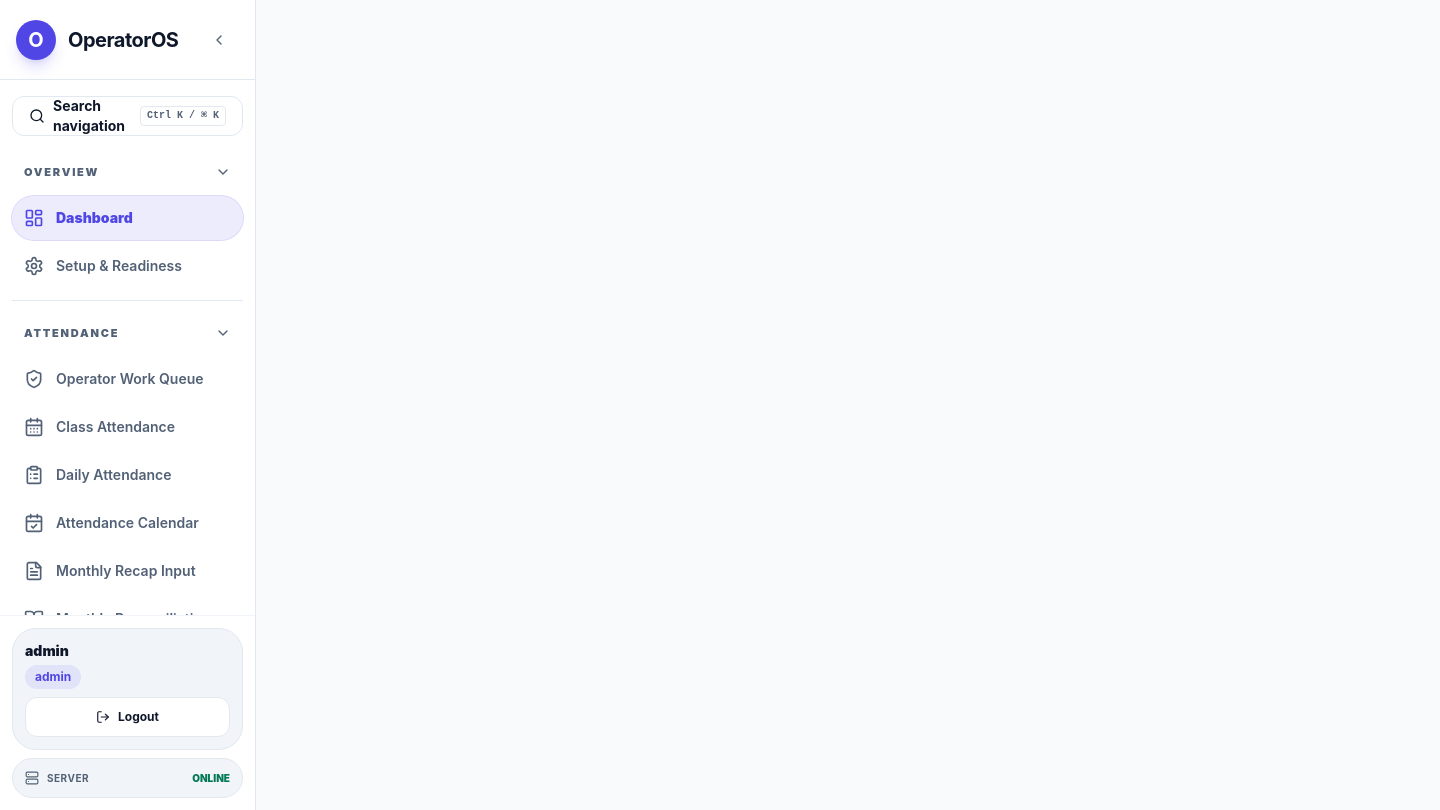
role-aware sidebar navigation › reports an unconfirmed logout after a rejected request without hiding the authenticated shell
Click the button with aria-label "Logout": {"x": 128, "y": 717} left=25, top=697, right=230, bottom=737
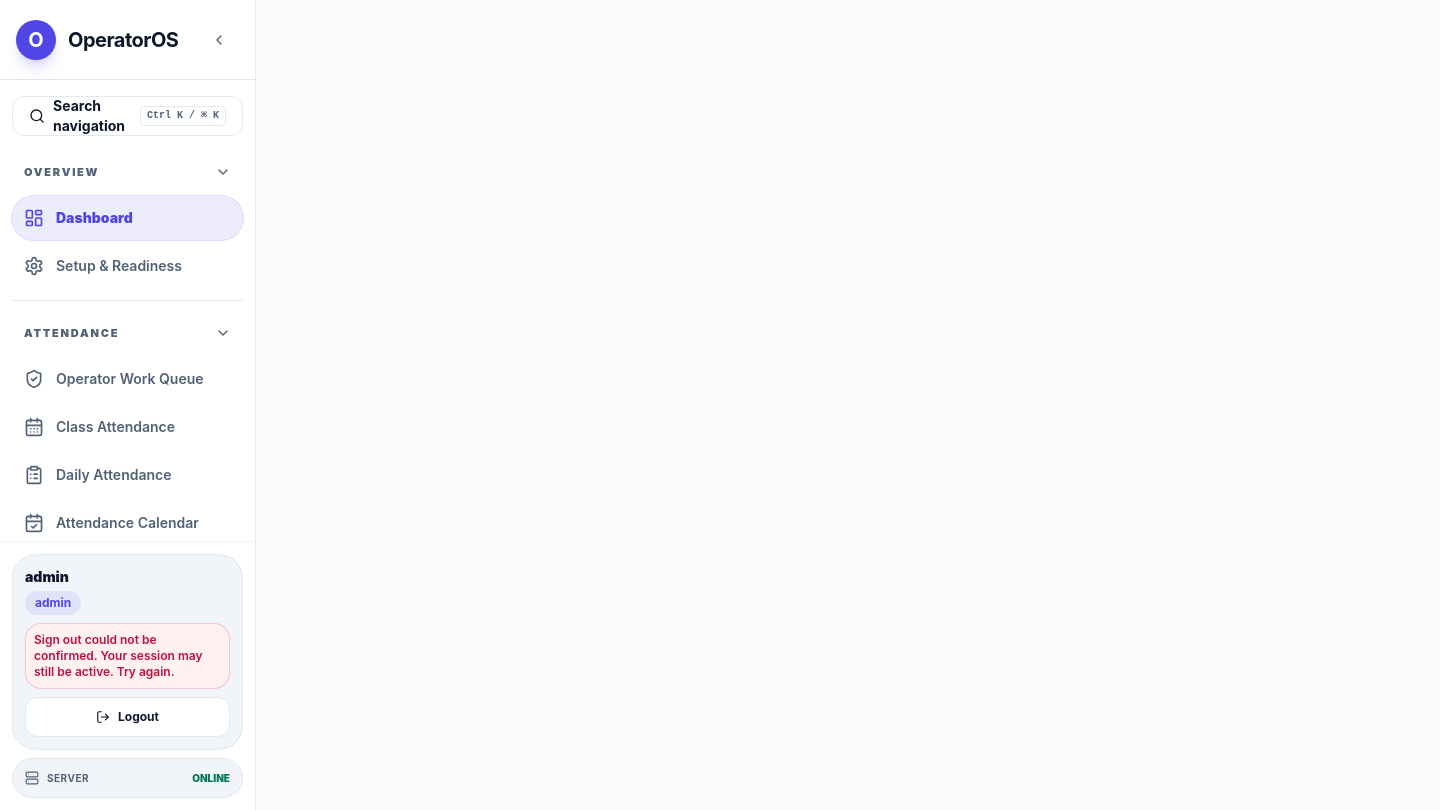
Expected: the text "admin" is shown, left=25, top=568, right=69, bottom=585
Result: the message "Sign out could not be confirmed. Your session may still be active. Try again." is shown at left=25, top=623, right=230, bottom=689
